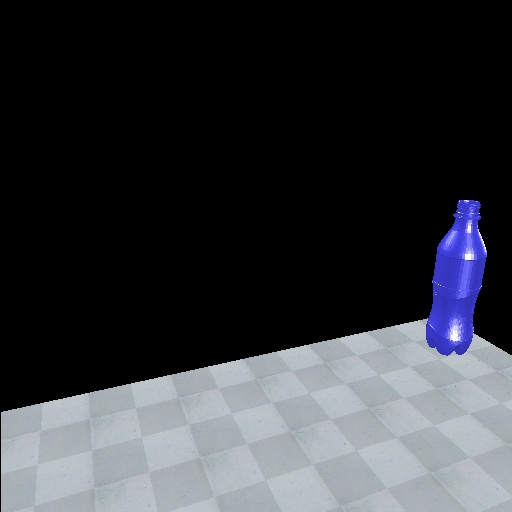bottle: (422, 194, 492, 361)
